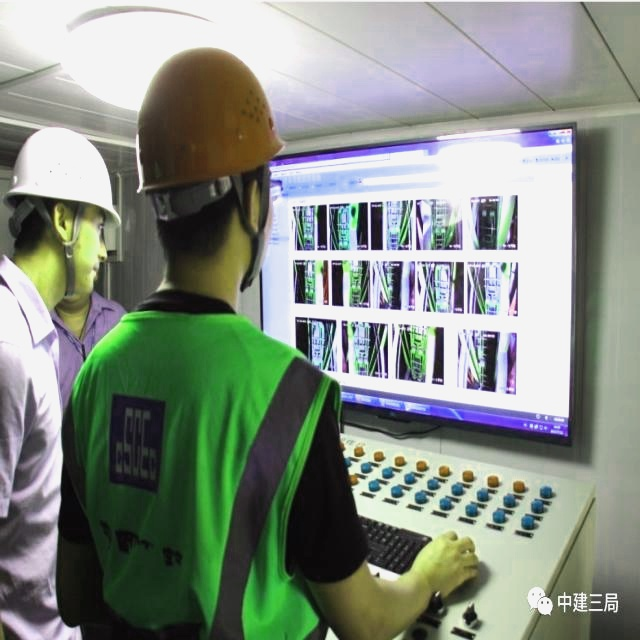Con_Chaleco: (66, 307, 334, 640)
